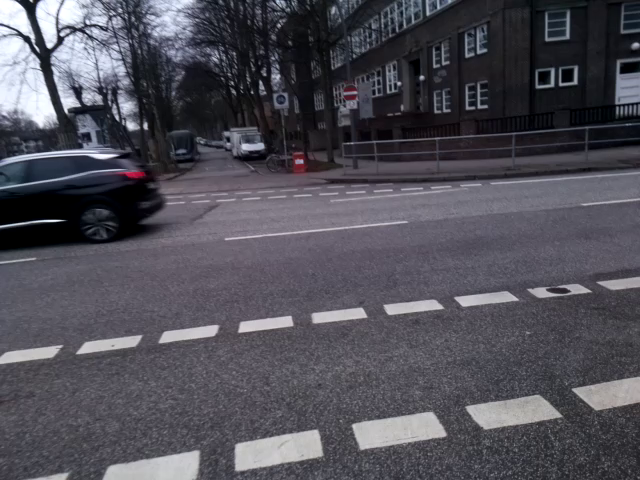car: (1, 142, 165, 261)
